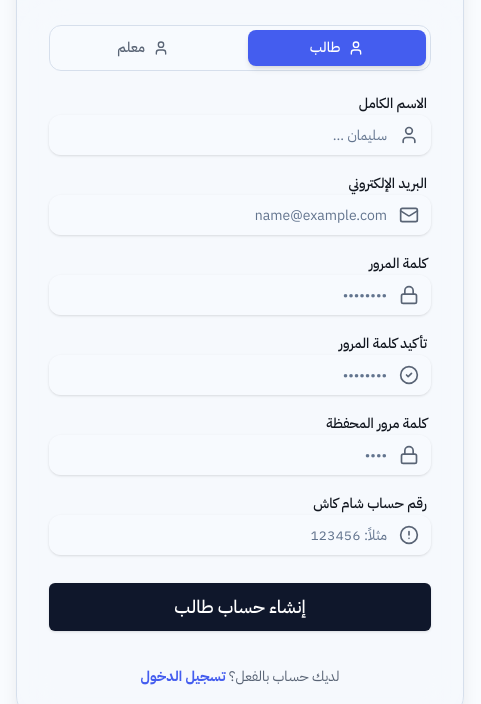
Test: RegisterForm › shows validation errors for empty fields on submit
This screenshot has width=481, height=704.
(page scrolled)
Click the button "إنشاء حساب طالب" at [240, 607], box [49, 583, 431, 631]
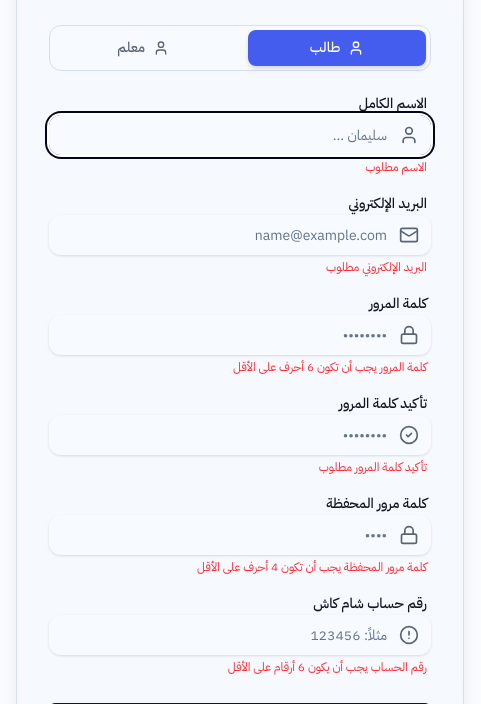
Check: the text "الاسم مطلوب" is shown, box [365, 158, 427, 176]
Check: the text "البريد الإلكتروني مطلوب" is shown, box [326, 258, 427, 276]
Check: the text "كلمة المرور يجب أن تكون 6 أحرف على الأقل" is shown, box [233, 358, 427, 376]
